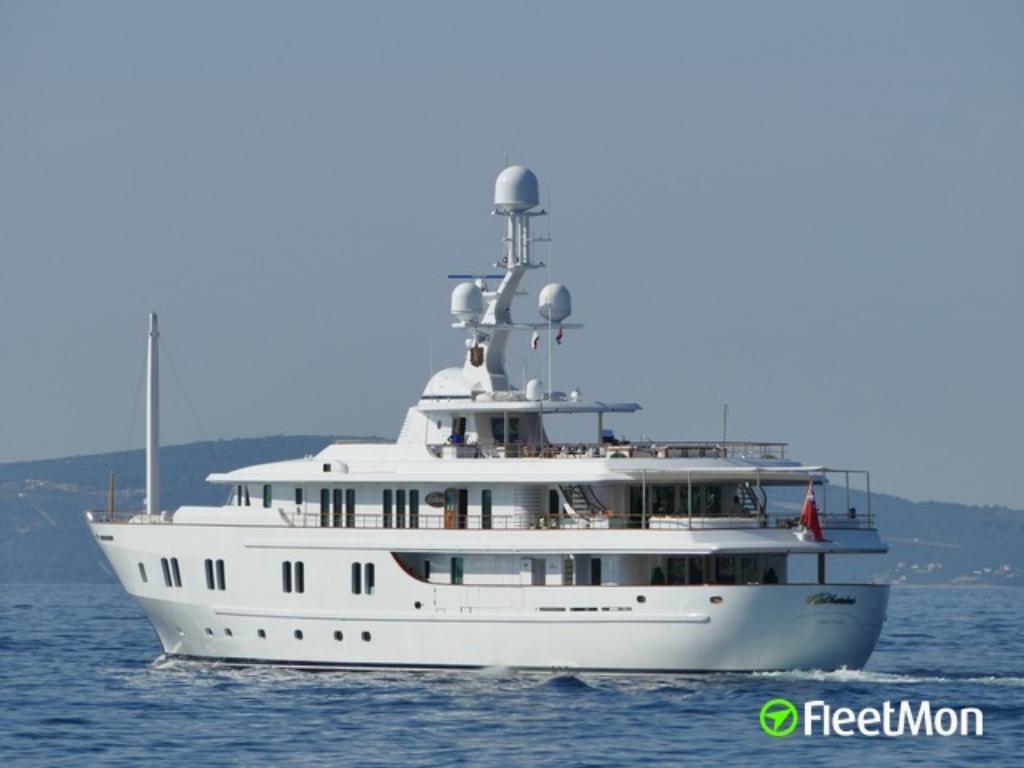PassengerShip: (87, 160, 891, 670)
